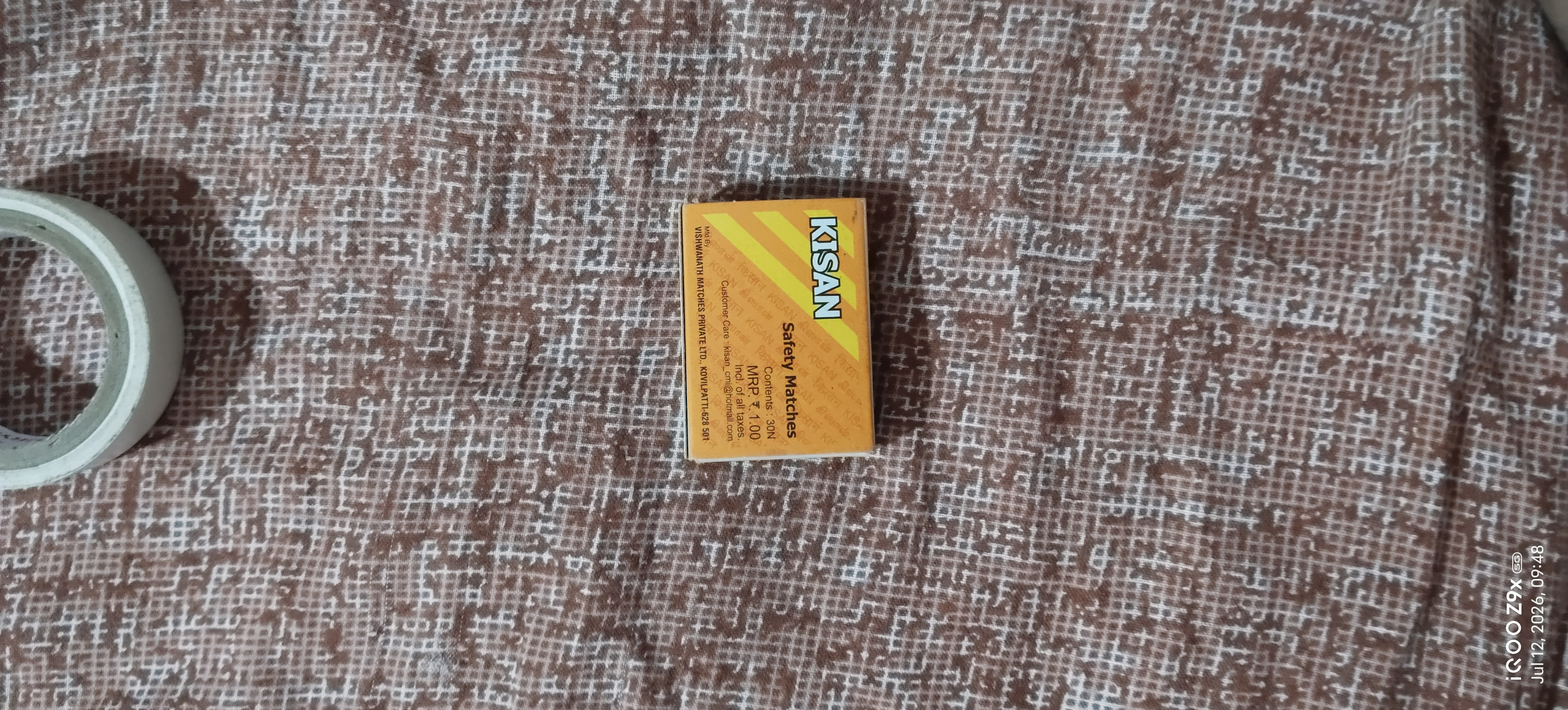matchbox: (651, 178, 936, 507)
tape_roll: (0, 163, 197, 533)
